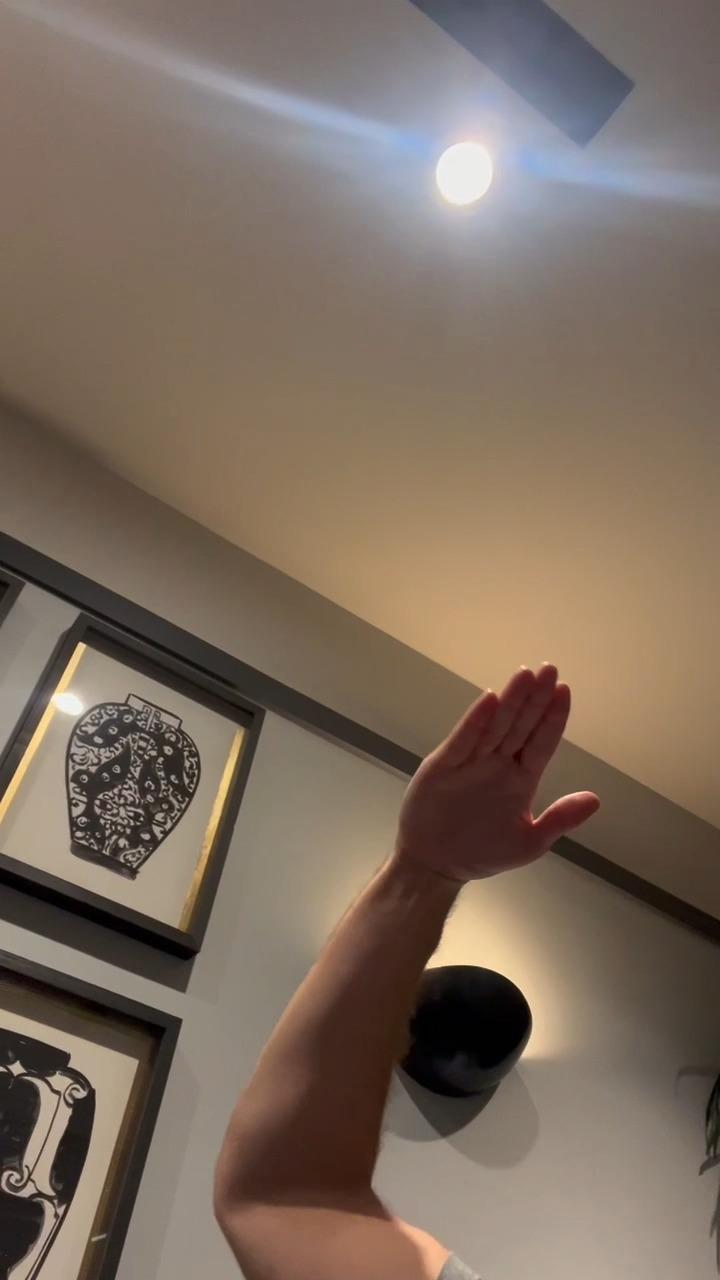Paper: (390, 660, 602, 886)
